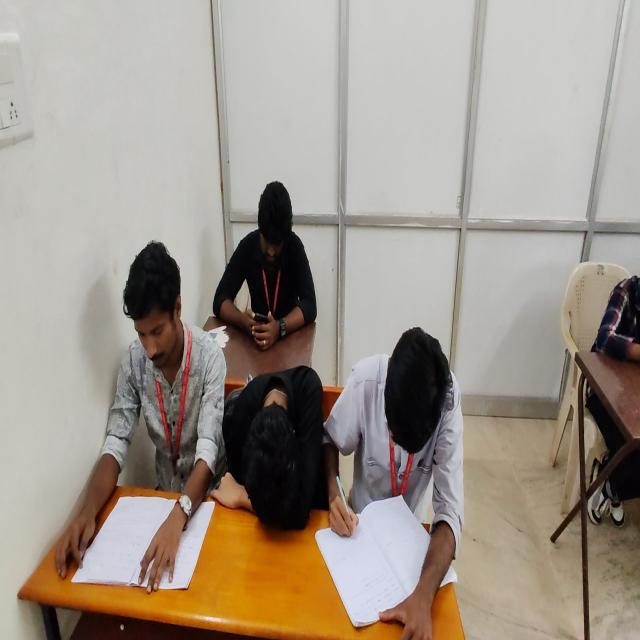reading: (54, 241, 230, 597), (321, 328, 460, 640)
sleeping: (216, 360, 326, 532)
using_mobile: (211, 180, 318, 349)
